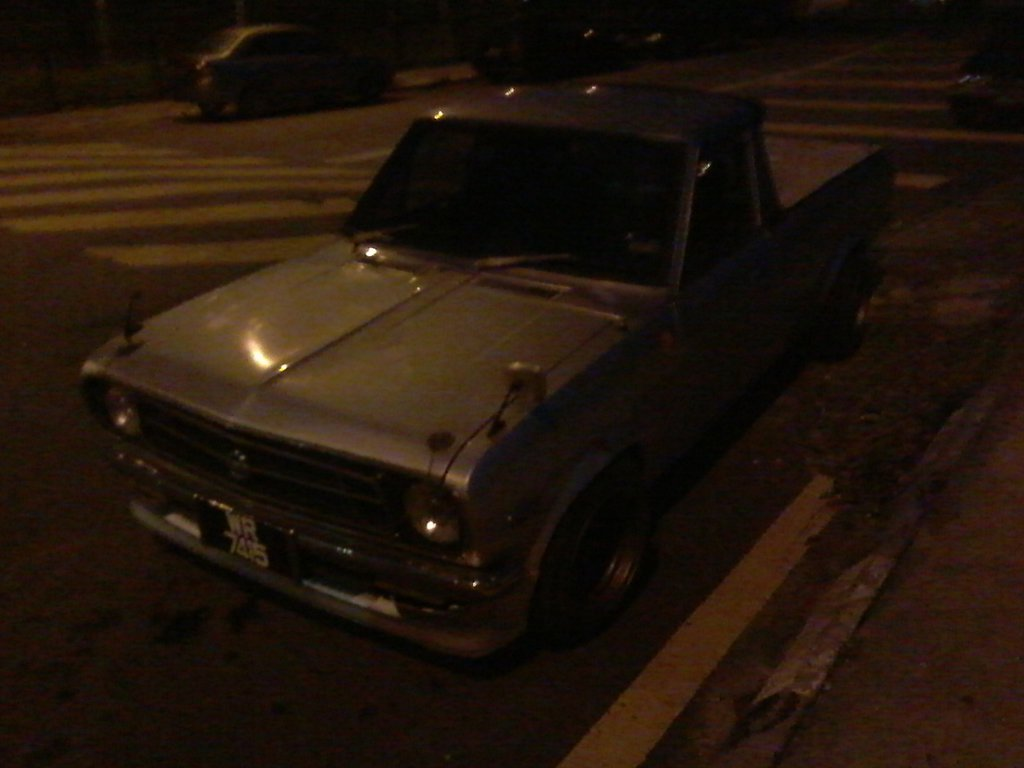car: (60, 80, 913, 675)
